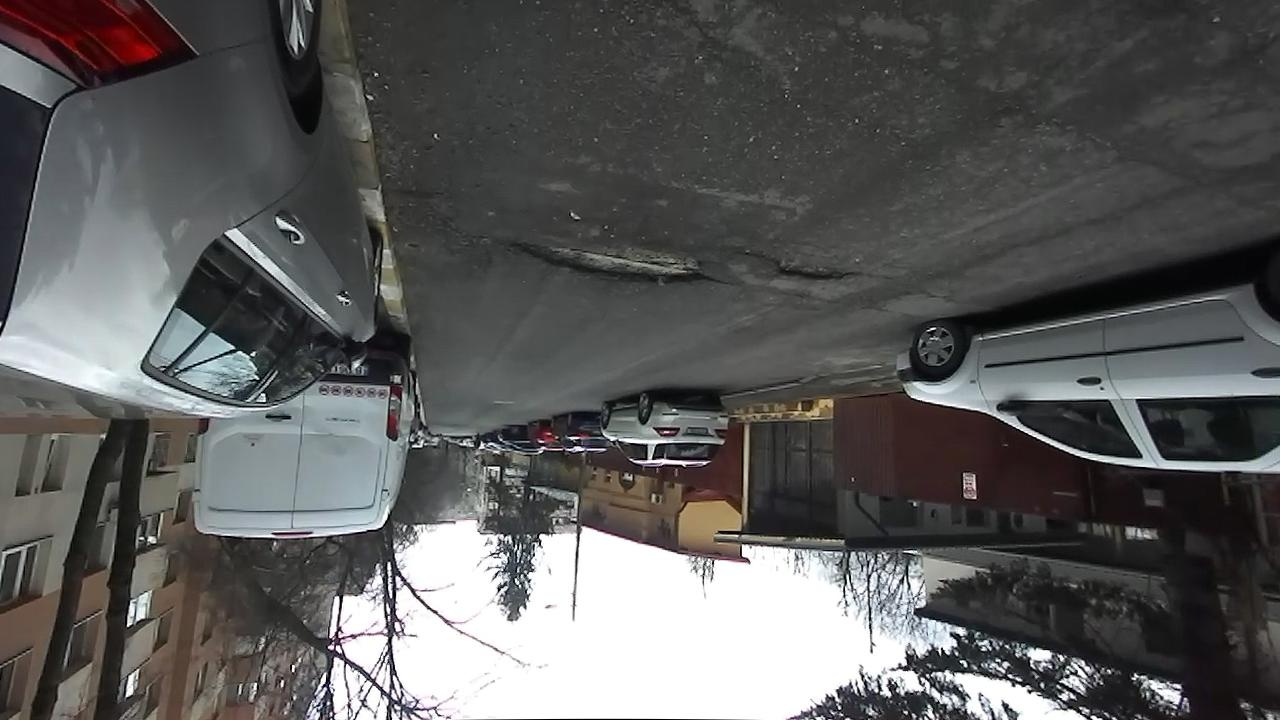pothole: (496, 230, 732, 291), (739, 248, 858, 288)
